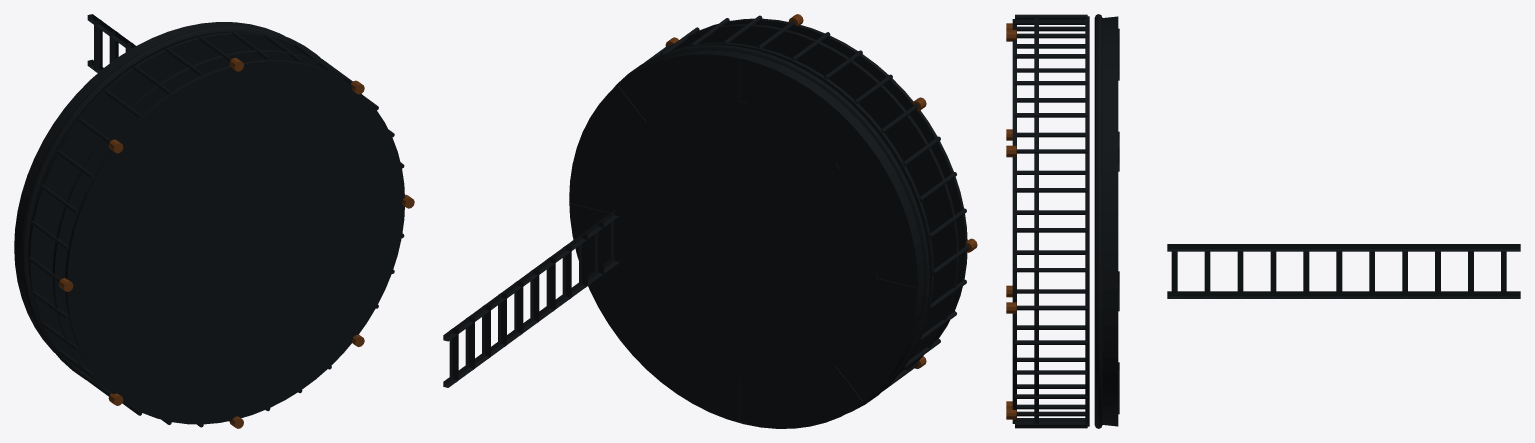
Rendered from SM_BB_LH_Gallery.obj.
3 views of the same model, side by side, from view 1: azimuth 30°, elevation 25°; view 2: azimuth 150°, elevation 25°; view 3: azimuth 270°, elevation 25° (orthographic). The views are drawn at different scales.
Visible parts, largest first — view 1: SM_BB_LH_Gallery; view 2: SM_BB_LH_Gallery; view 3: SM_BB_LH_Gallery.
Part boxes in pixels (box(x1,y1,x2,y2)): SM_BB_LH_Gallery: box(14, 14, 414, 428); SM_BB_LH_Gallery: box(443, 14, 977, 428); SM_BB_LH_Gallery: box(1006, 14, 1520, 428).
Size of the model in its own units: 870 by 869 by 1063.
